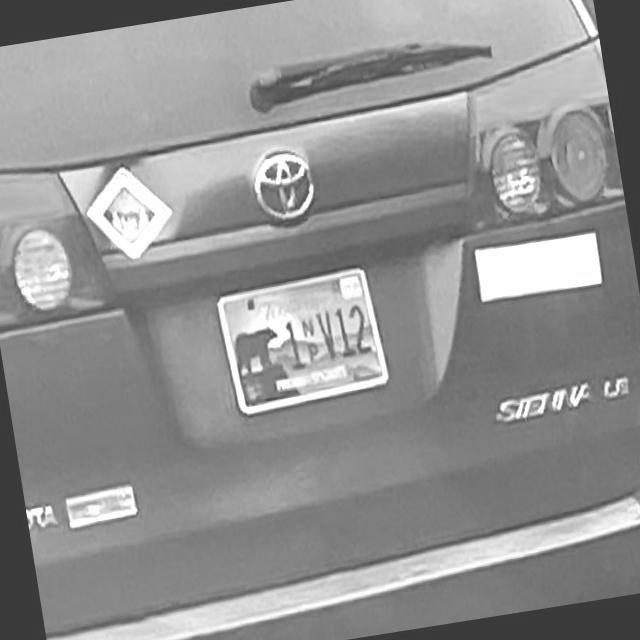LicensePlate: (213, 262, 391, 418)
